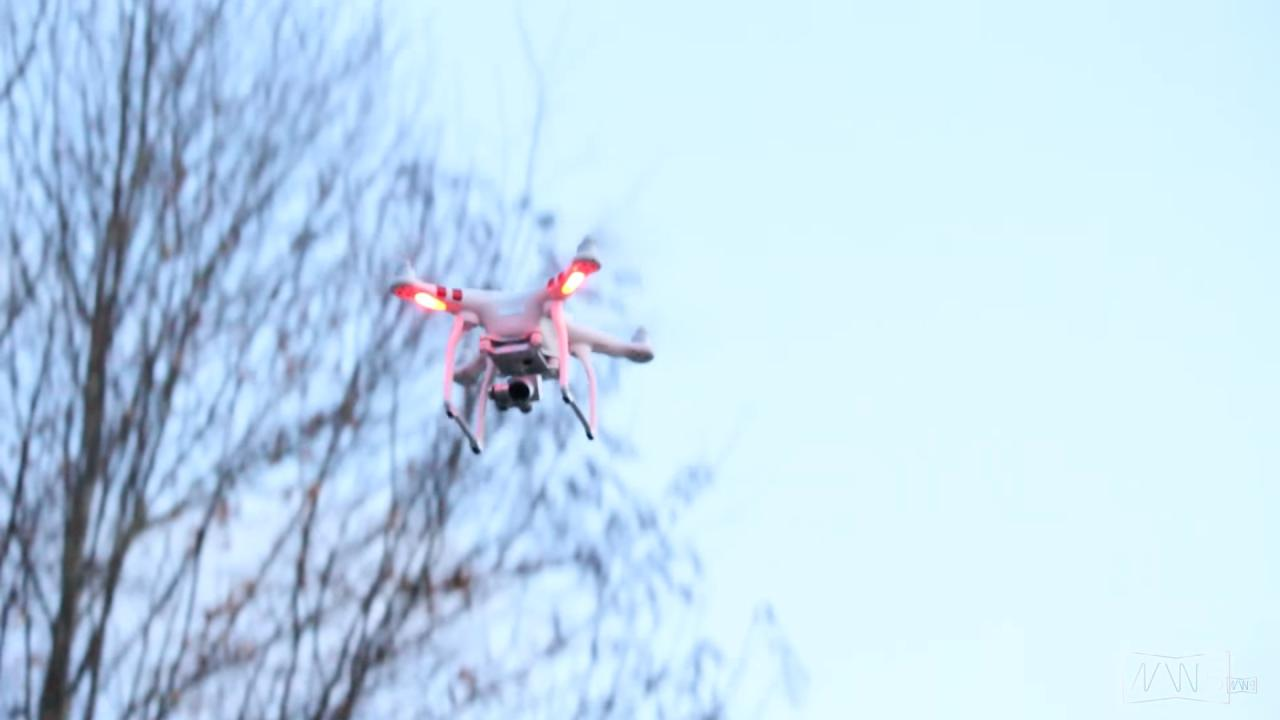Drone: (377, 214, 676, 462)
